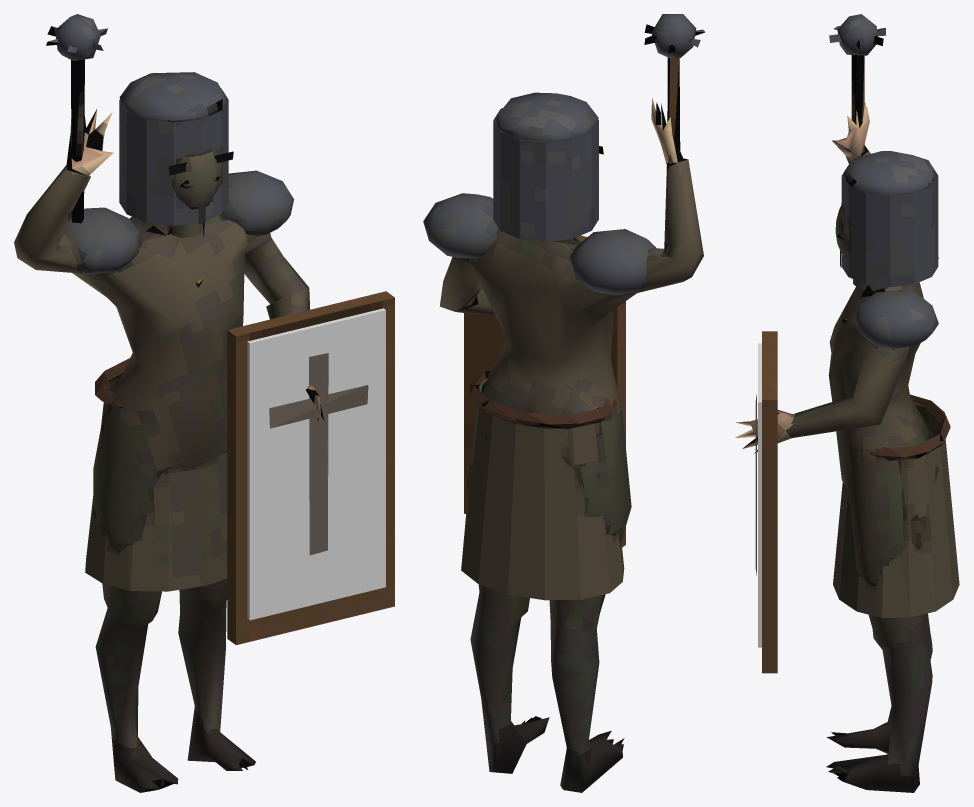
Rendered from shield.glb.
The picture shows the model from 3 angles, left to right: view 1: azimuth 30°, elevation 25°; view 2: azimuth 150°, elevation 25°; view 3: azimuth 270°, elevation 25°; orthographic projection. The views are drawn at different scales.
Parts seen in each view (by area): view 1: Body, Accent; view 2: Body; view 3: Body, Accent.
Part boxes in pixels (left/top/right/bottom): Body: left=14, top=14, right=394, bottom=792; Accent: left=247, top=308, right=385, bottom=620; Body: left=423, top=14, right=705, bottom=792; Body: left=735, top=14, right=959, bottom=792; Accent: left=758, top=343, right=761, bottom=647.
Bounding box in the file's own units: 0.4788 × 1.2 × 0.3456.
2 materials, 1 textured.
